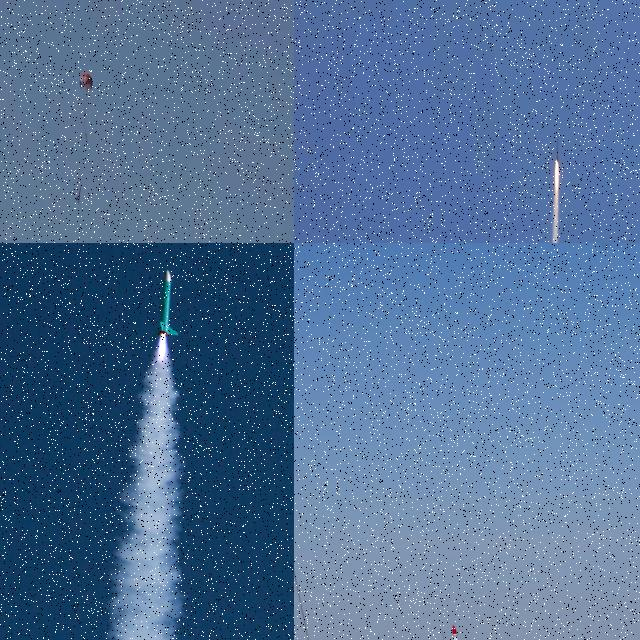Rocket: (150, 269, 179, 337), (452, 624, 470, 640), (556, 137, 559, 164)
